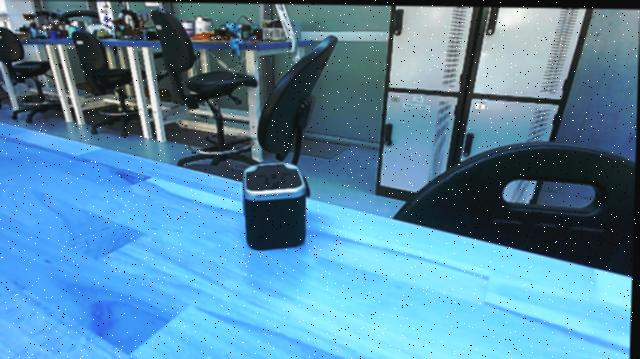adapter: (232, 160, 314, 259)
